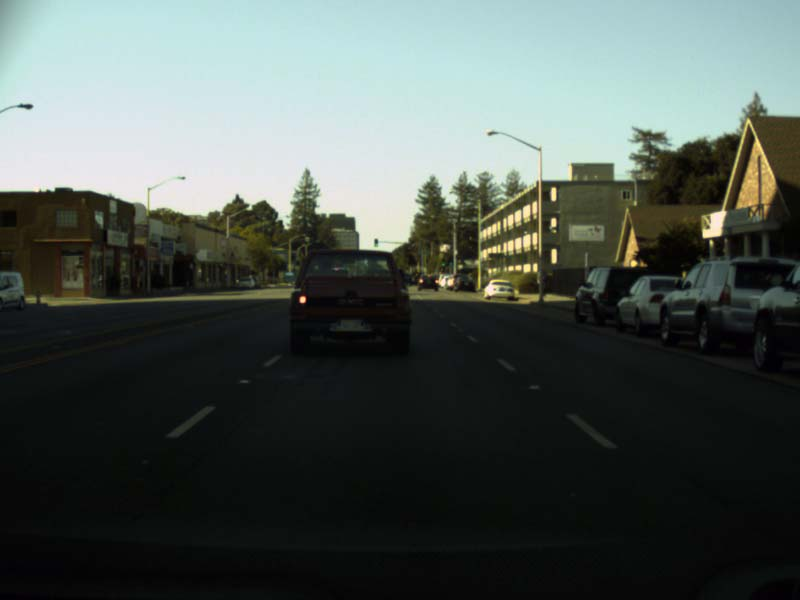Green: (373, 238, 378, 246)
